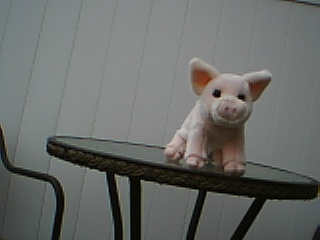piggy: (163, 56, 273, 176)
